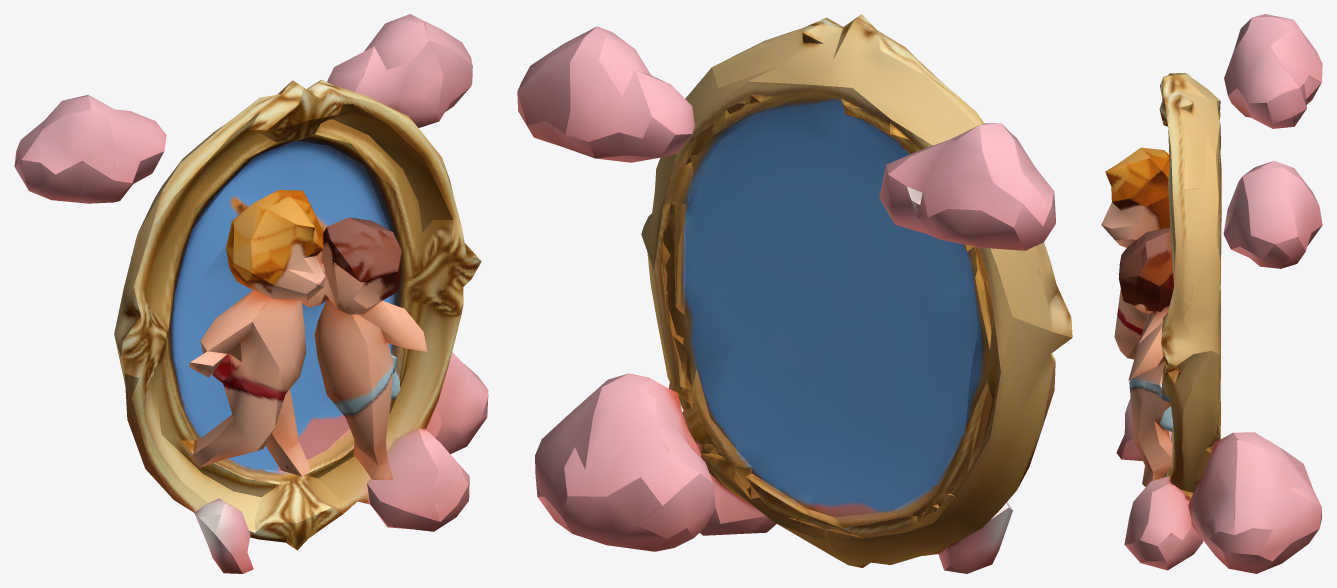
Rendered from oval-cherub-painting.glb.
3 renders of one model, left to right at view 1: azimuth 30°, elevation 25°; view 2: azimuth 150°, elevation 25°; view 3: azimuth 270°, elevation 25°, orthographic. The views are drawn at different scales.
Parts seen in each view (by area): view 1: geometry_0; view 2: geometry_0; view 3: geometry_0.
Boxes of the visible parts, x1=… form: geometry_0: x1=14, y1=14, x2=488, y2=573; geometry_0: x1=517, y1=14, x2=1072, y2=573; geometry_0: x1=1101, y1=14, x2=1322, y2=573.
Size of the model in its own units: 1 by 0.9914 by 0.4598.
Materials: 1 (1 with a texture image).
